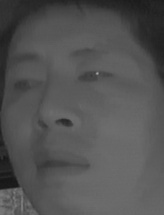eye: (76, 62, 116, 88), (11, 72, 43, 95)
mouth: (28, 146, 92, 181)
